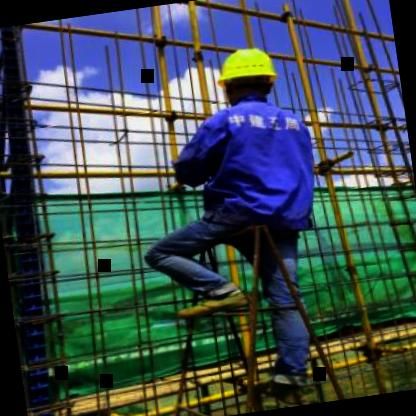helmet: (207, 39, 286, 109)
